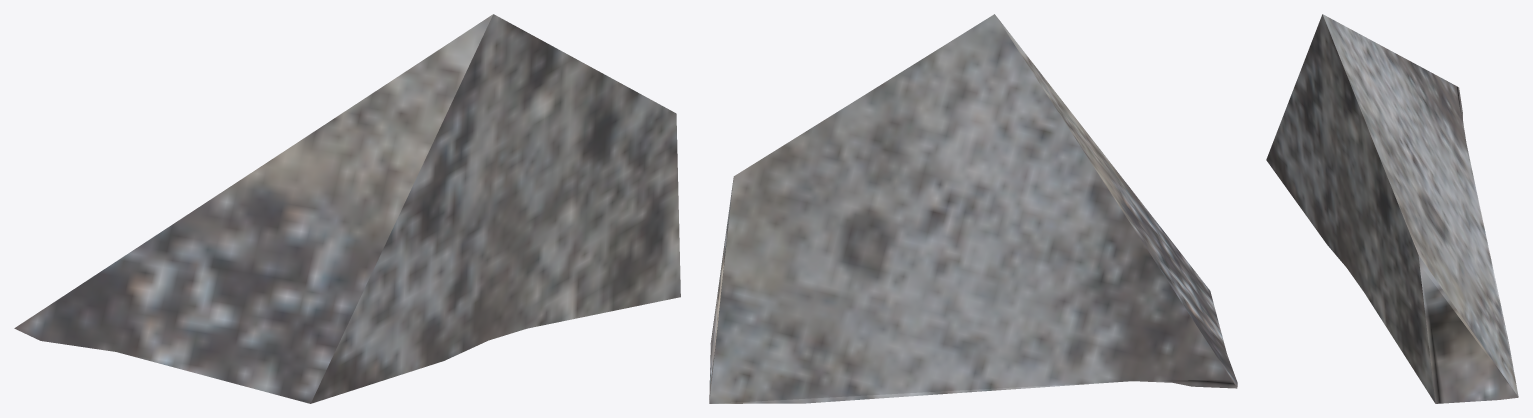
The model's file is Asteroid_Large_001_02_008_03_016.fbx.
3 renders of one model, left to right at view 1: azimuth 30°, elevation 25°; view 2: azimuth 150°, elevation 25°; view 3: azimuth 270°, elevation 25°, orthographic. The views are drawn at different scales.
Parts seen in each view (by area): view 1: Asteroid_Large_001_02_008_03_016; view 2: Asteroid_Large_001_02_008_03_016; view 3: Asteroid_Large_001_02_008_03_016.
Boxes of the visible parts, x1,y1,x2,y2 form: Asteroid_Large_001_02_008_03_016: [14, 14, 680, 403]; Asteroid_Large_001_02_008_03_016: [709, 14, 1237, 403]; Asteroid_Large_001_02_008_03_016: [1266, 14, 1518, 403].
Bounding box in the file's own units: 4.35 × 2.7 × 2.
